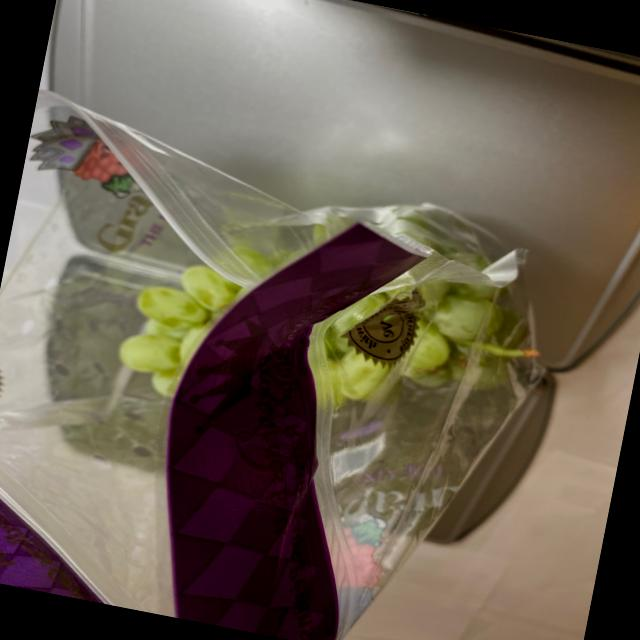grapes: (86, 198, 526, 473)
